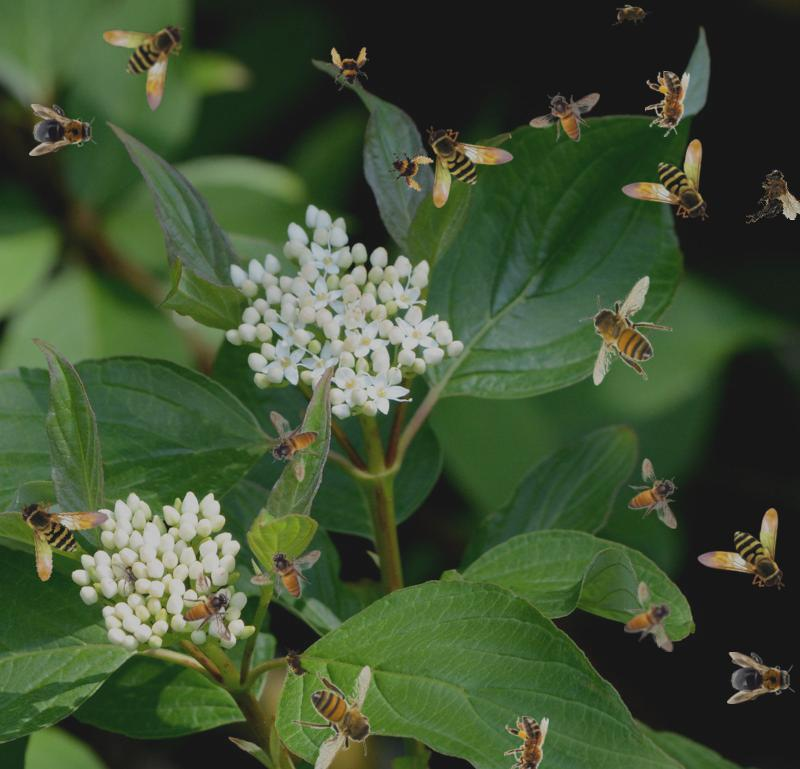Bee: (579, 275, 673, 386), (16, 486, 120, 584), (291, 665, 385, 769), (697, 508, 785, 590), (103, 23, 185, 111), (426, 126, 514, 208), (621, 139, 709, 221), (738, 164, 800, 228), (182, 571, 232, 642), (529, 92, 600, 142), (250, 549, 321, 599), (624, 581, 674, 652), (269, 411, 319, 482), (628, 458, 678, 529), (727, 652, 795, 704), (29, 104, 97, 156), (381, 139, 437, 195), (645, 71, 690, 137), (323, 43, 373, 93), (504, 716, 549, 769), (277, 640, 315, 686), (612, 4, 652, 26)
